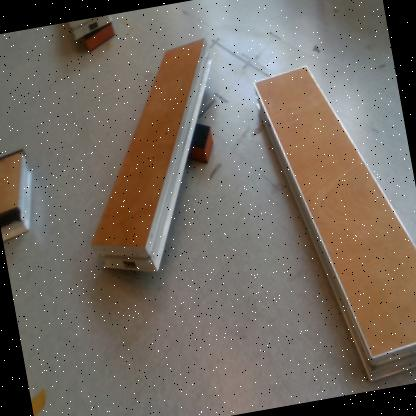Stairs: (254, 63, 416, 383), (92, 36, 214, 276), (1, 149, 35, 244), (68, 15, 118, 48)
